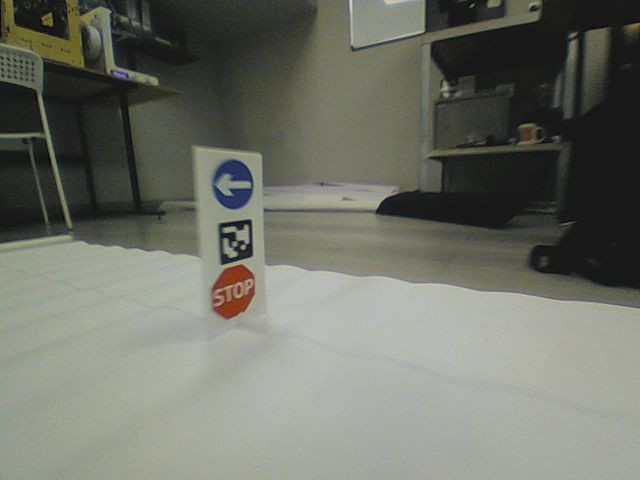Stop: (211, 265, 257, 319)
